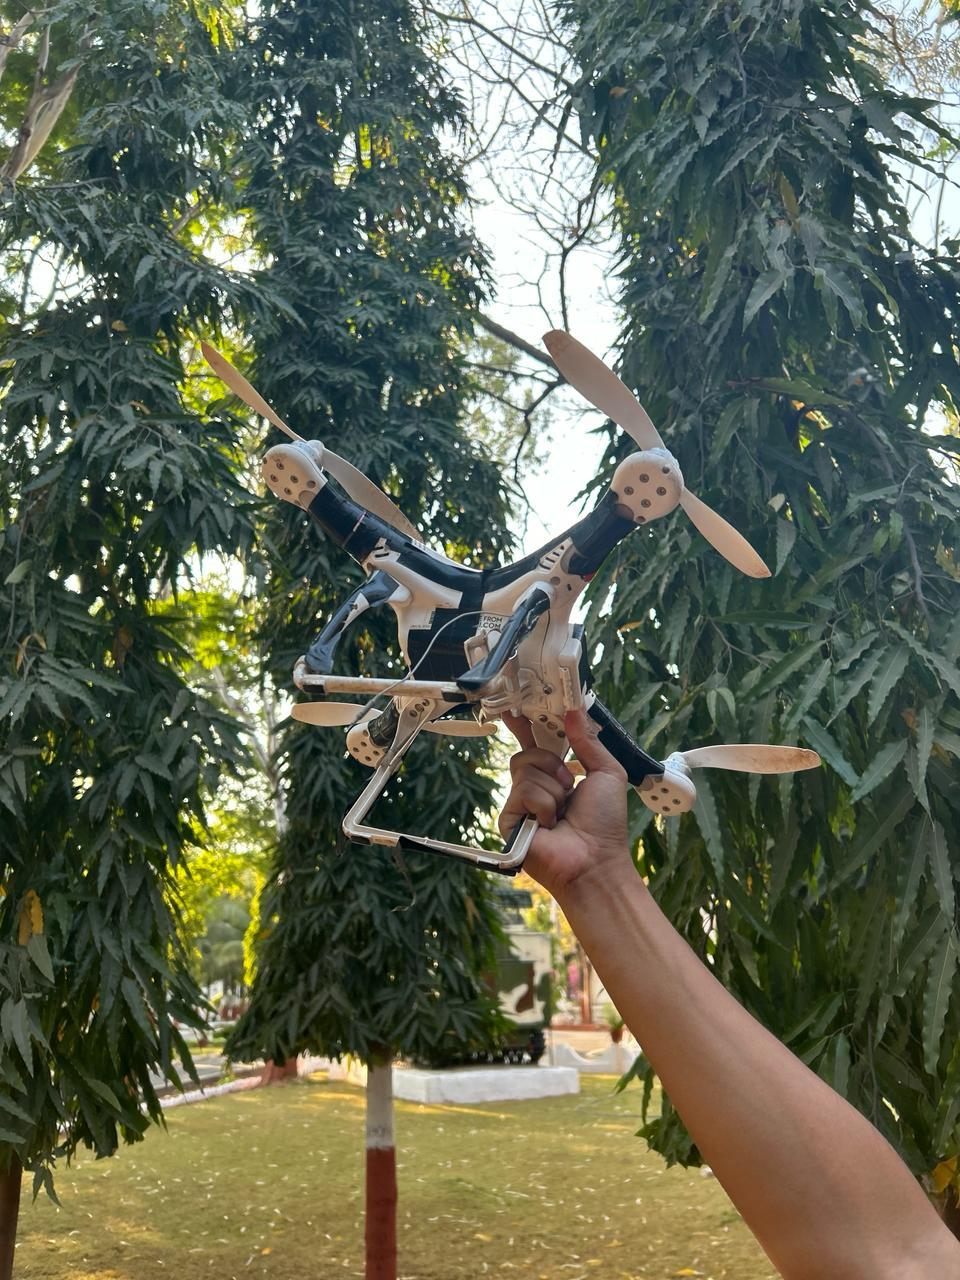drone: (196, 327, 829, 883)
